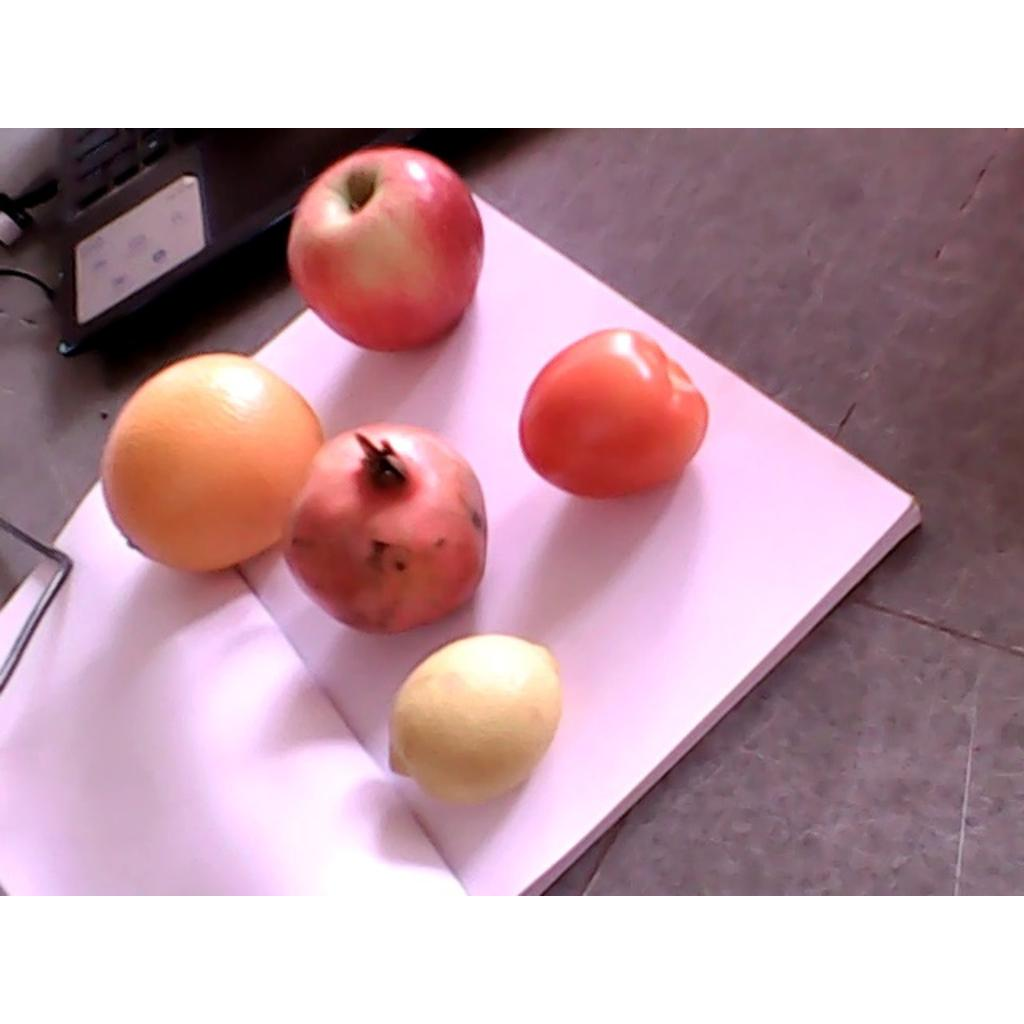apple: (290, 148, 485, 347)
lemon: (388, 634, 561, 803)
orange: (98, 351, 325, 573)
pomegranate: (285, 422, 487, 634)
tomato: (519, 331, 709, 498)
